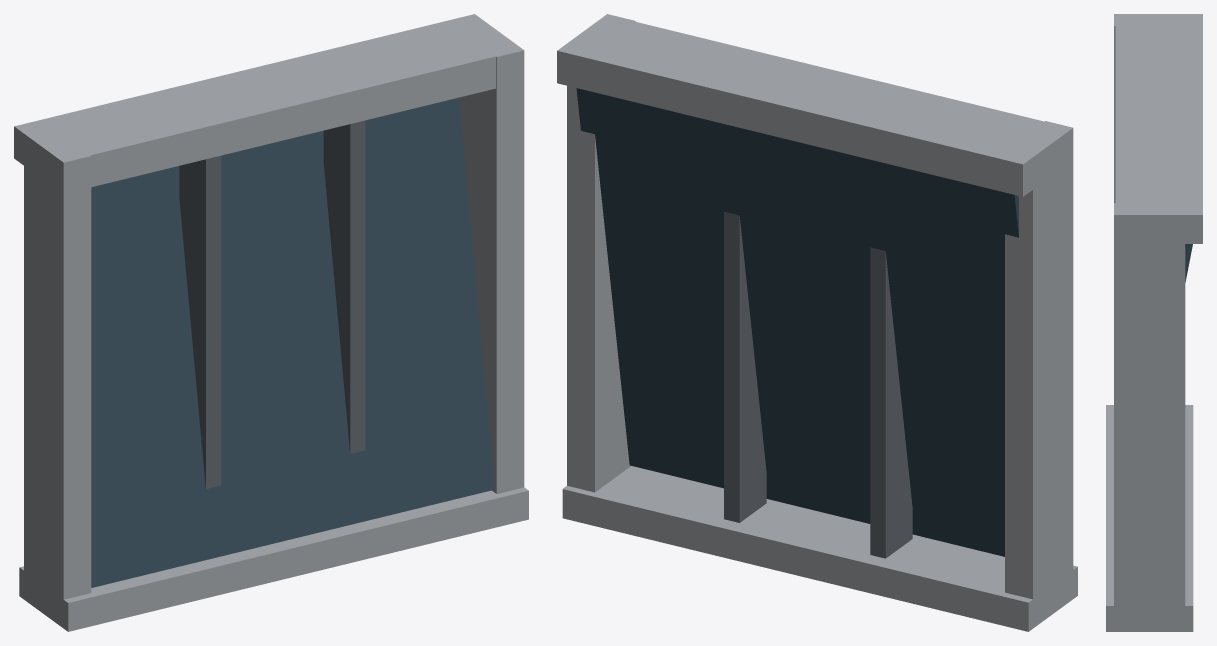
File: window_bay_sloped_3m.glb
3 renders of one model, left to right at view 1: azimuth 30°, elevation 25°; view 2: azimuth 150°, elevation 25°; view 3: azimuth 270°, elevation 25°, orthographic. The views are drawn at different scales.
Visible parts, largest first — view 1: KIT_KIT_Glass, KIT_KIT_Concrete.002, KIT_KIT_Steel.001; view 2: KIT_KIT_Glass, KIT_KIT_Concrete.002, KIT_KIT_Steel.001; view 3: KIT_KIT_Concrete.002, KIT_KIT_Glass.
Part boxes in pixels (<box>): KIT_KIT_Glass: <box>91,97,494,587</box>; KIT_KIT_Concrete.002: <box>14,14,528,631</box>; KIT_KIT_Steel.001: <box>179,120,365,488</box>; KIT_KIT_Glass: <box>576,88,1018,556</box>; KIT_KIT_Concrete.002: <box>557,14,1077,631</box>; KIT_KIT_Steel.001: <box>724,211,912,558</box>; KIT_KIT_Concrete.002: <box>1106,14,1202,631</box>; KIT_KIT_Glass: <box>1185,244,1192,282</box>.
Bounding box in the file's own units: 3 × 2.9 × 0.61.
